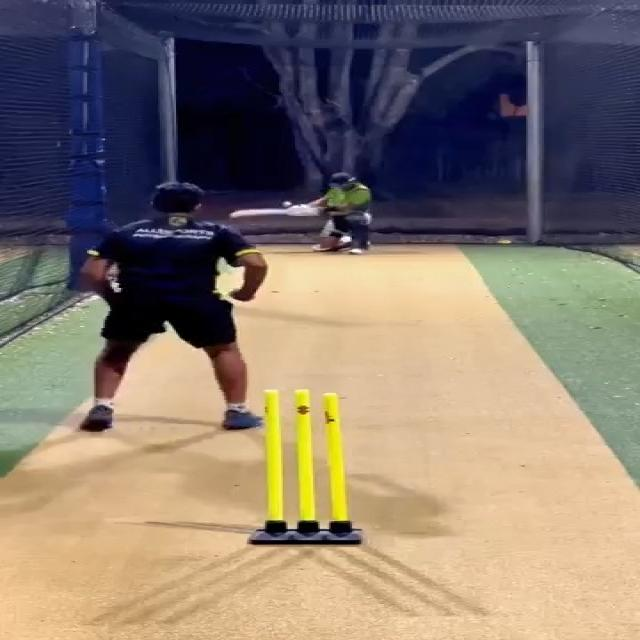stump: (247, 388, 365, 546)
